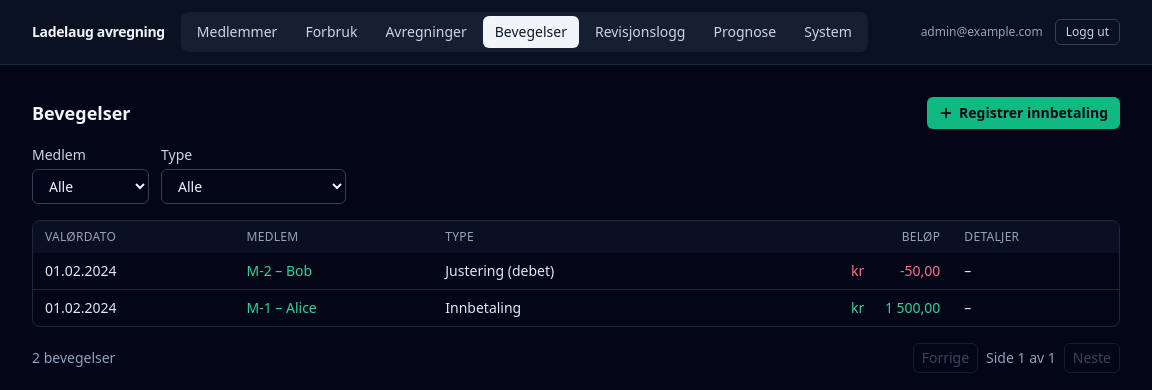
Test case: Movements (admin) › lists ledger rows across members and filters by member
Check: the link "M-1 – Alice" is shown, box [246, 298, 317, 317]
Check: the link "M-2 – Bob" is shown, box [246, 261, 312, 280]
Select "M-1 – Alice" in the dropdown labelled "Medlem": (90, 186) [32, 169, 149, 204]
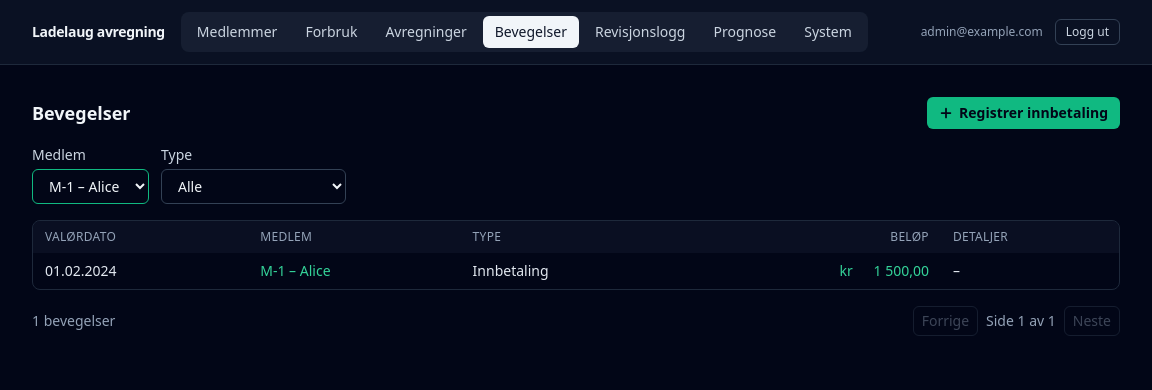
Check: the link "M-1 – Alice" is shown, box [260, 261, 331, 280]
Check: the link "M-2 – Bob" is gone
